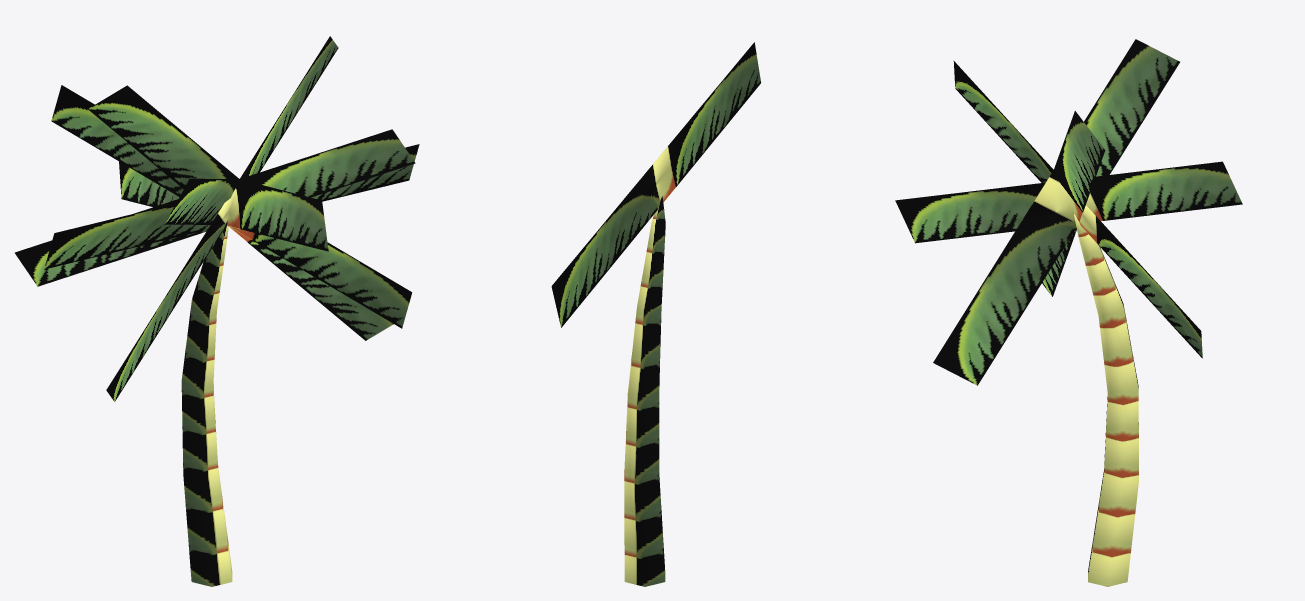
File: wuhu-tree3.glb
3 views of the same model, side by side, from view 1: azimuth 30°, elevation 25°; view 2: azimuth 150°, elevation 25°; view 3: azimuth 270°, elevation 25° (orthographic). The views are drawn at different scales.
Visible parts, largest first — view 1: polygon0; view 2: polygon0; view 3: polygon0.
Part boxes in pixels (<box>): polygon0: <box>15,36,419,586</box>; polygon0: <box>551,42,760,586</box>; polygon0: <box>895,39,1242,586</box>.
Bounding box in the file's own units: 40 × 57.82 × 39.97.
1 material, 1 textured.
